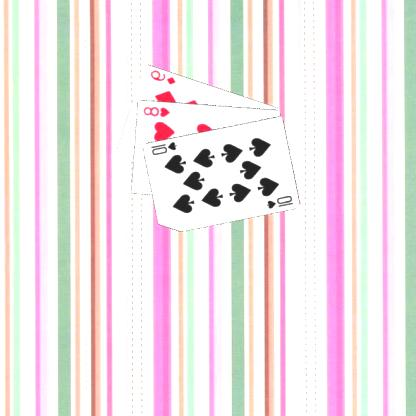10S: (265, 192, 296, 210), (149, 139, 180, 156)
8H: (142, 103, 173, 118)
9D: (149, 67, 179, 86)
